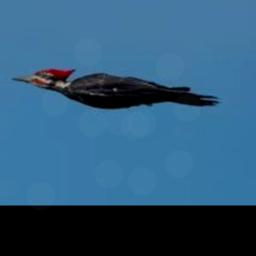Woodpecker: (13, 67, 221, 109)
